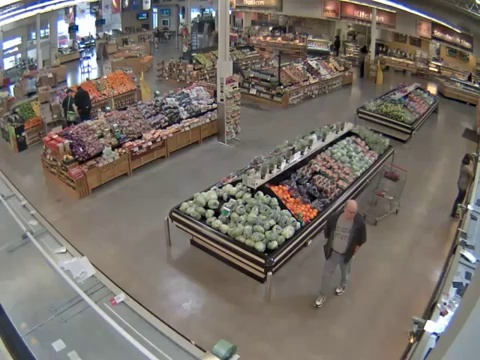face: (344, 203, 357, 219)
